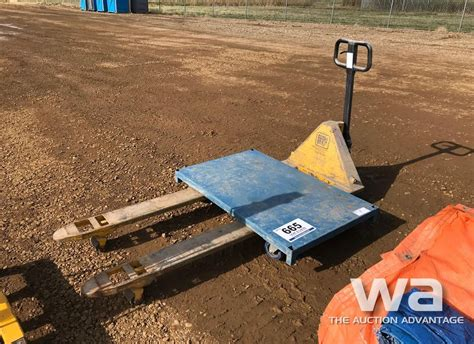Pallet Jack: (52, 36, 387, 307)
